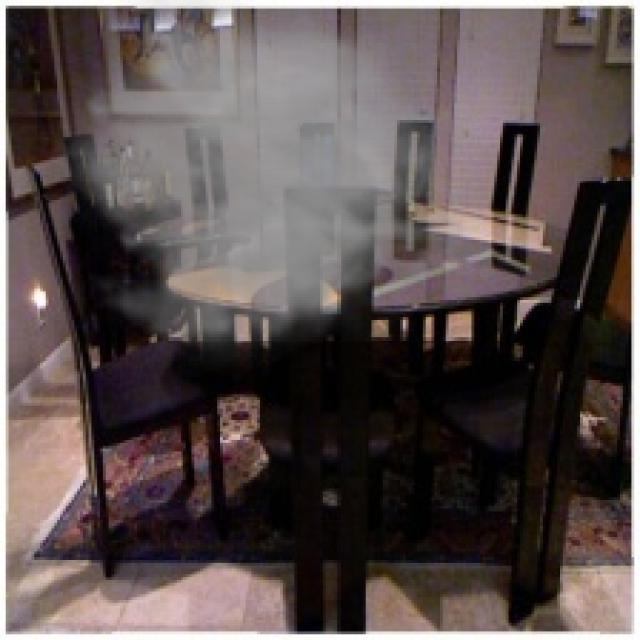smoke: (51, 0, 472, 380)
